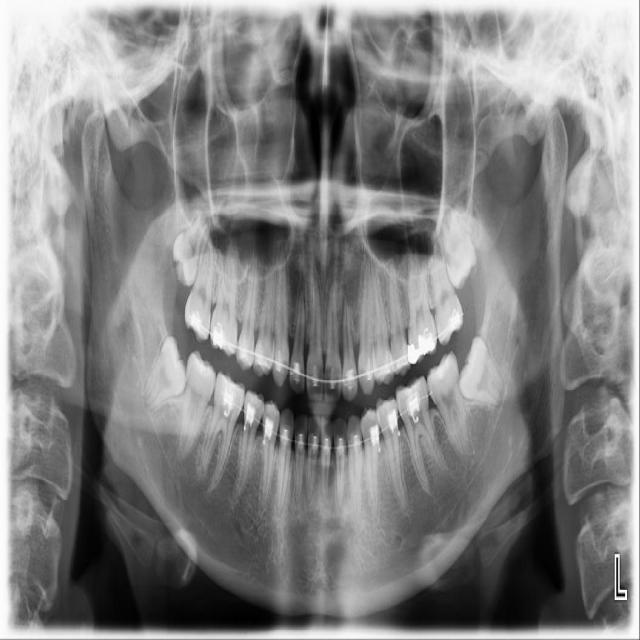3M ESPE Implant: (164, 205, 211, 289)
52: (407, 312, 438, 366)
73: (613, 572, 619, 588)
BioHorizons Implant: (433, 236, 464, 345)
BioLife Implant: (438, 206, 481, 290)
Biomet 3i Implant: (453, 335, 517, 409)
Blue Sky Bio Implant: (420, 350, 475, 461)
Caries: (182, 235, 217, 343)
Implant: (175, 349, 220, 460)
Keystone Dental Implant: (137, 332, 202, 420)
